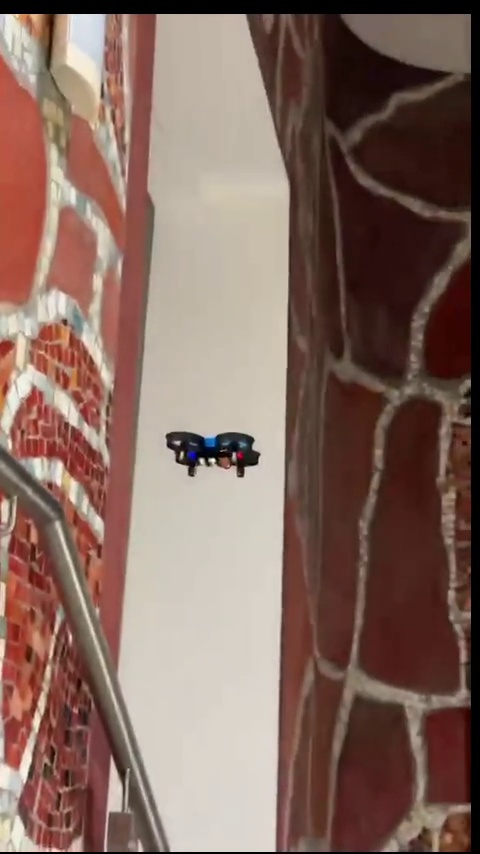drone: (161, 426, 264, 478)
